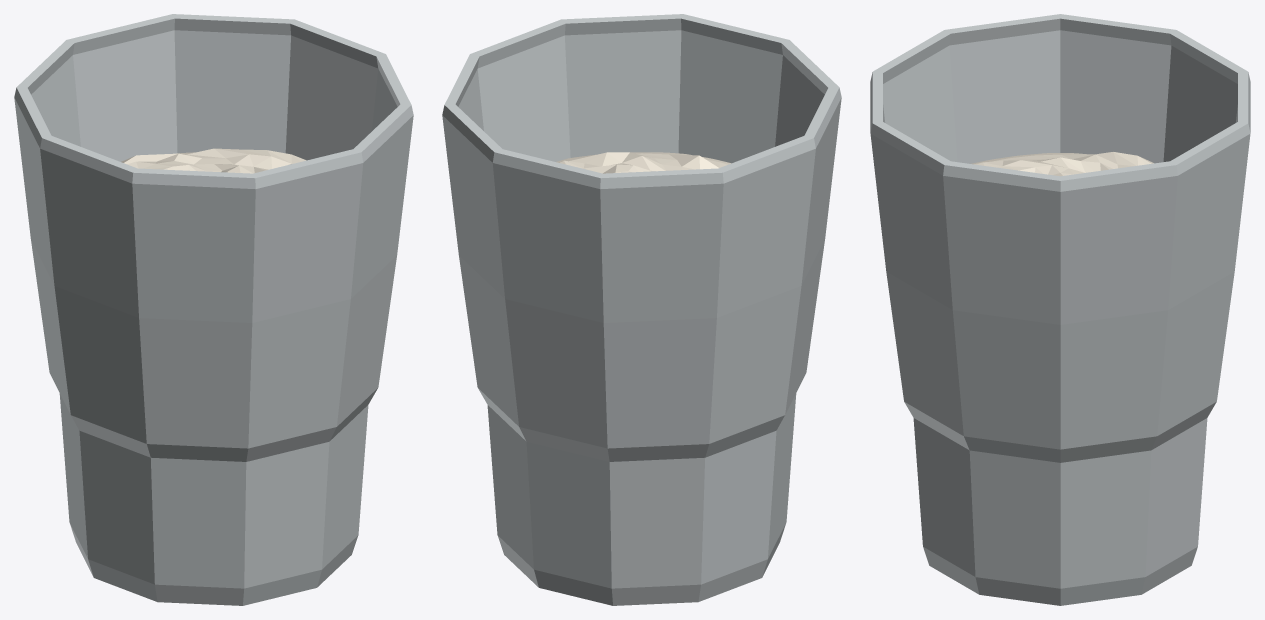
Rendered from verre-the.glb.
3 renders of one model, left to right at view 1: azimuth 30°, elevation 25°; view 2: azimuth 150°, elevation 25°; view 3: azimuth 270°, elevation 25°, orthographic.
Visible parts, largest first — view 1: verre, mousse; view 2: verre, mousse; view 3: verre, mousse.
Boxes of the visible parts, box(x1,y1,x2,y2) form: verre: box(14, 14, 413, 605); mousse: box(121, 148, 306, 173); verre: box(442, 14, 841, 605); mousse: box(556, 152, 730, 173); verre: box(870, 14, 1250, 605); mousse: box(971, 152, 1153, 176).
Bounding box in the file's own units: 0.0724 × 0.09 × 0.0689.
